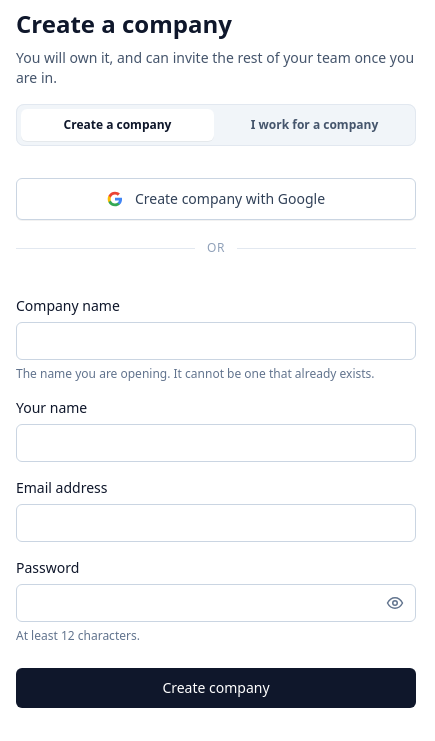
Scenario: SignUpPage › lets somebody read the password they are choosing, with no second box to keep in step
Click the button named "show password" at (395, 603), box [374,584,416,622]
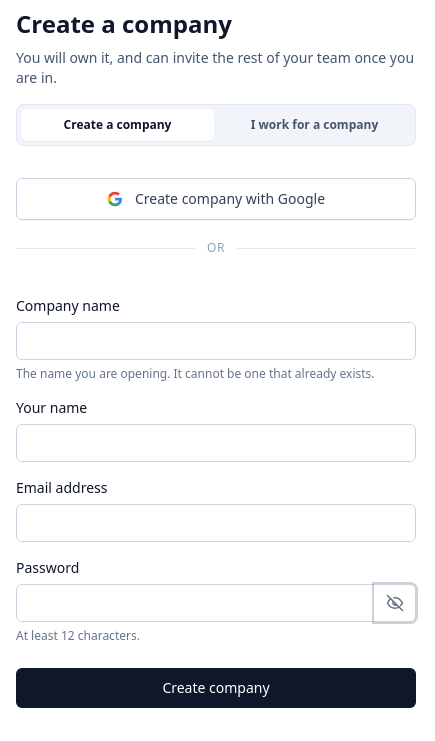
Expected: the button named "hide password" is shown, [374,584,416,622]
